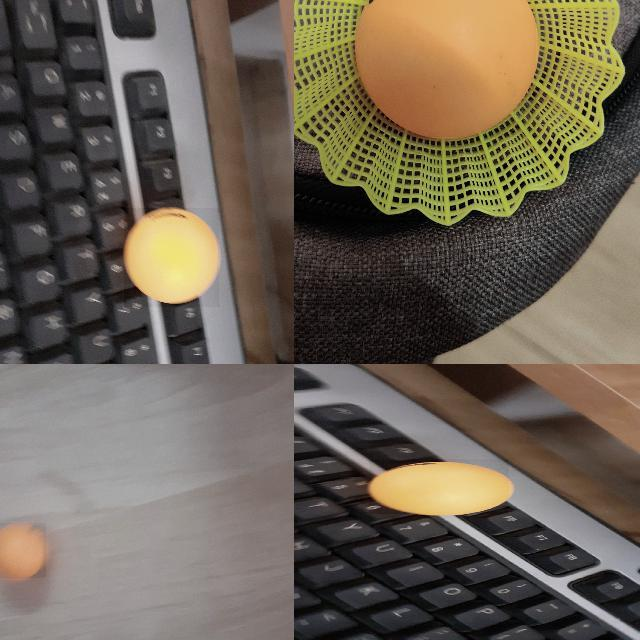ping-pong-ball: (352, 0, 538, 138), (124, 208, 220, 308), (370, 460, 510, 514), (0, 522, 48, 580)
